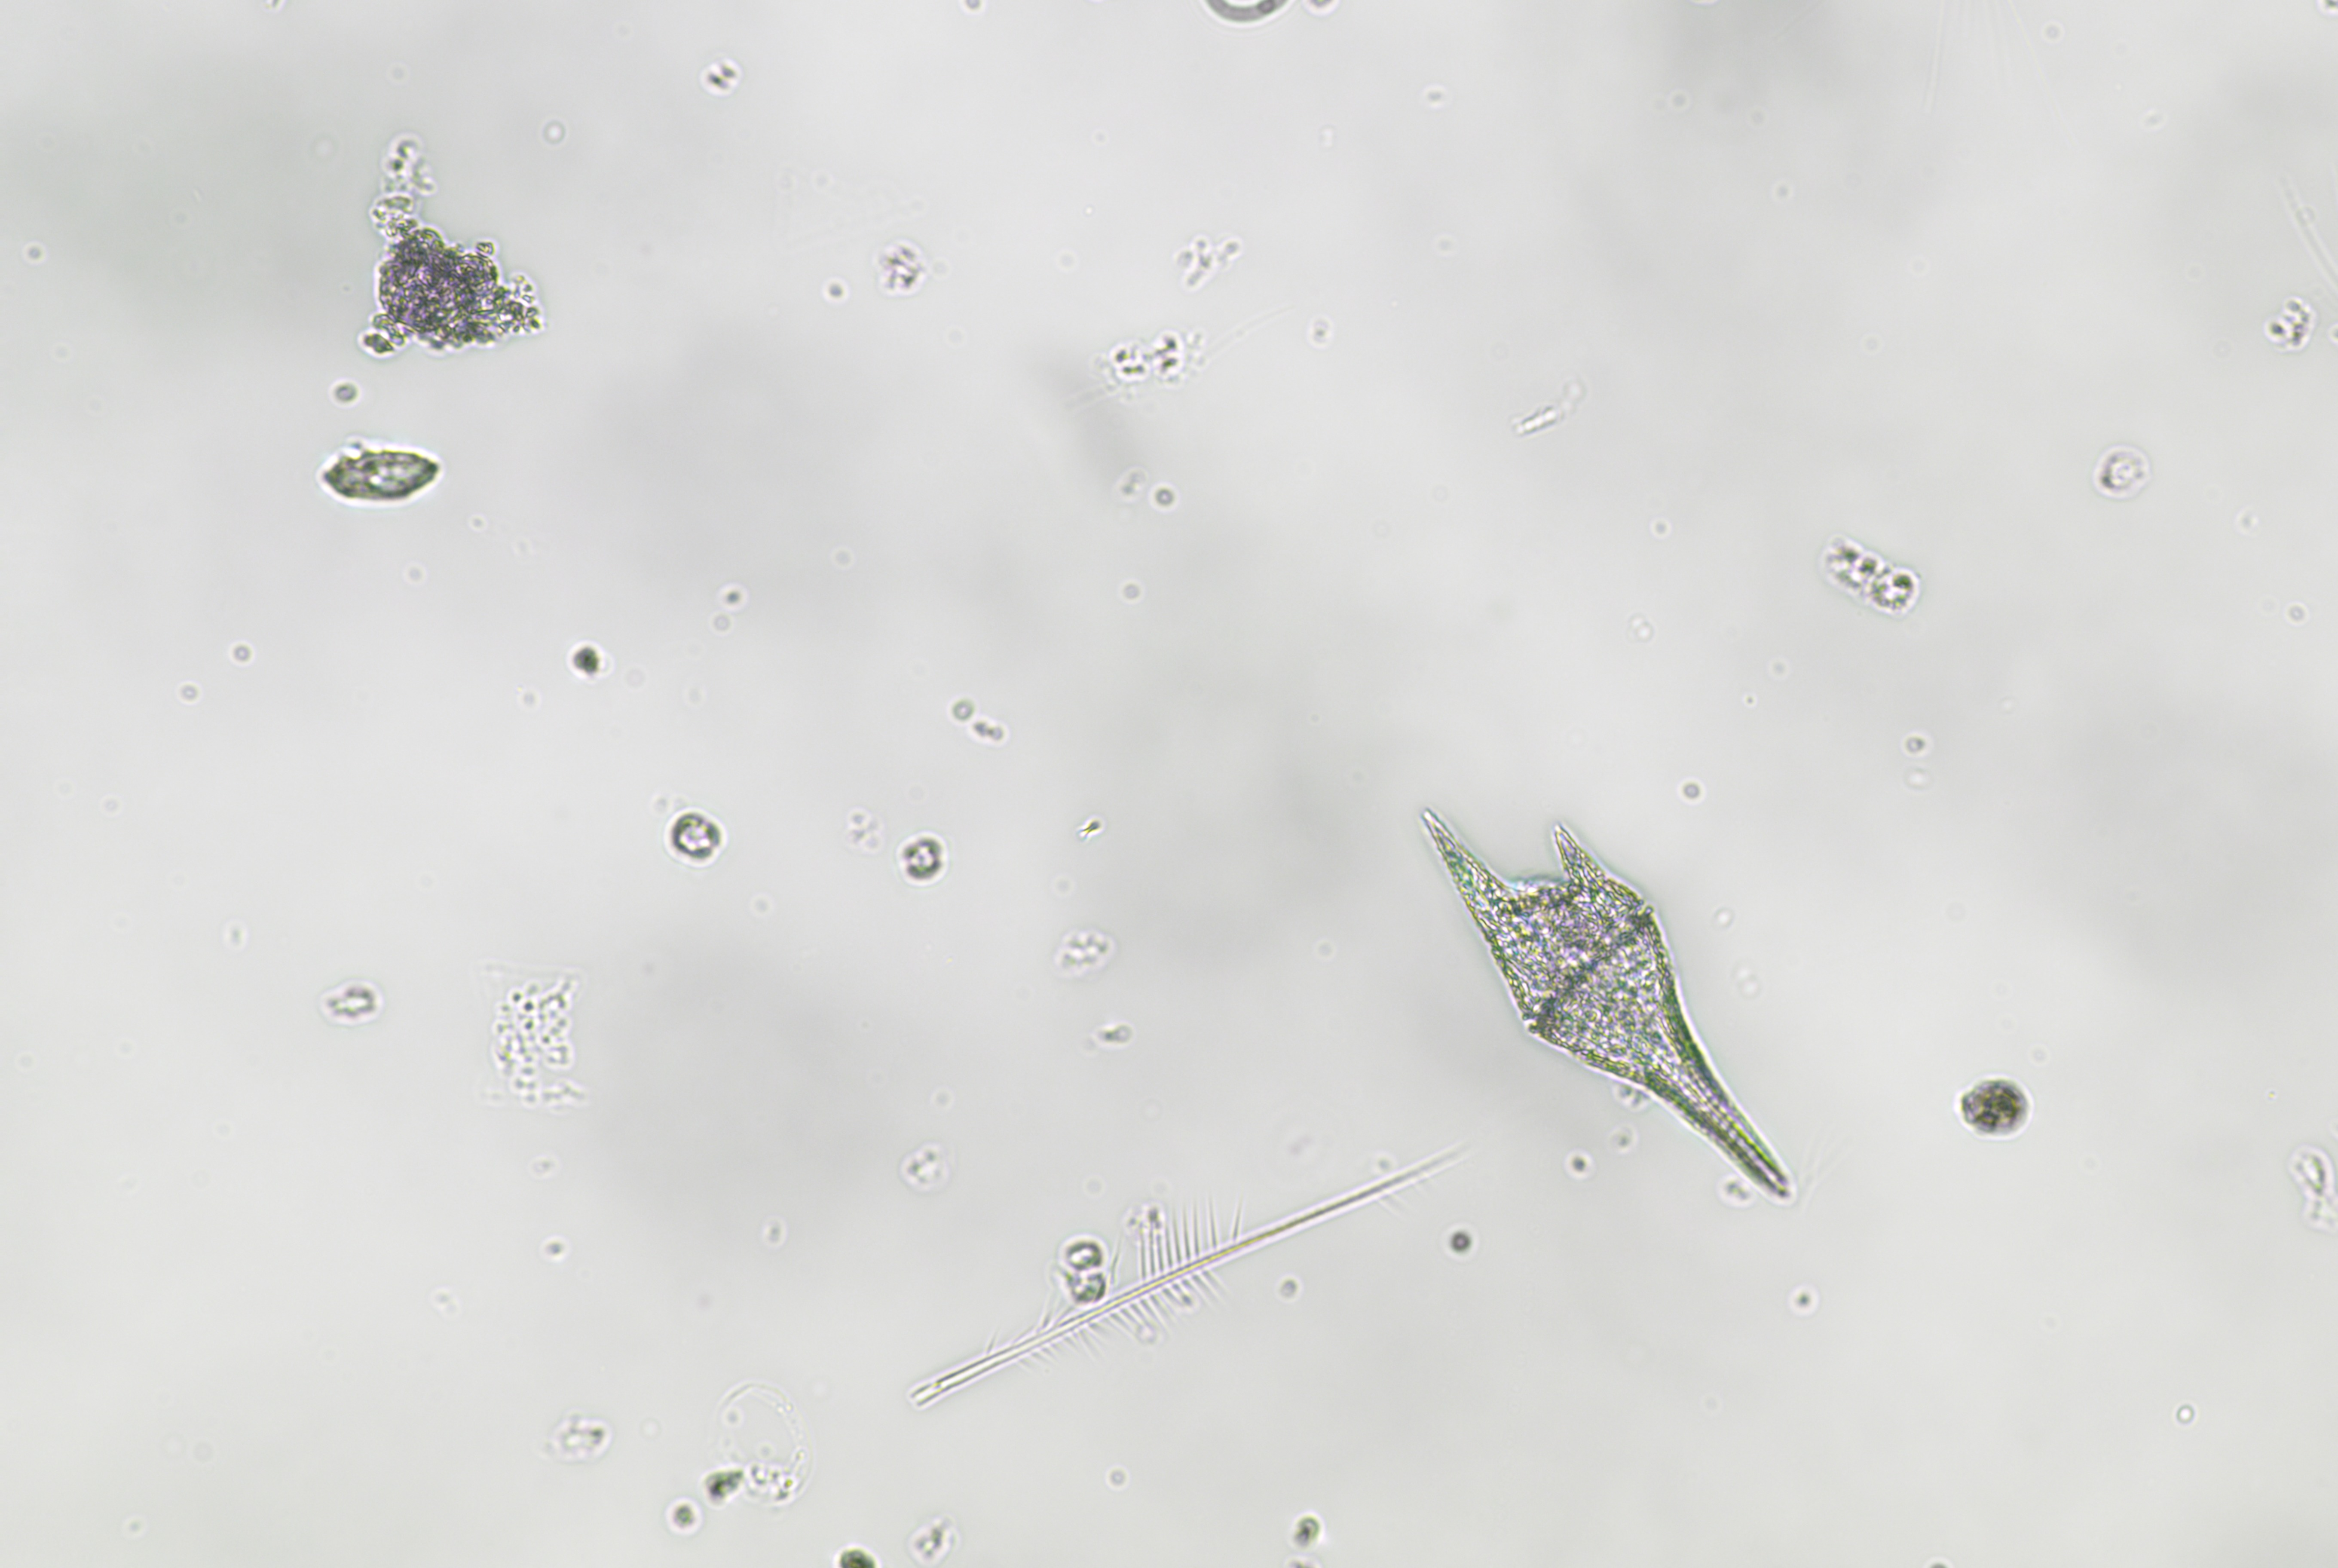ceratium furca: (1411, 800, 1801, 1202)
